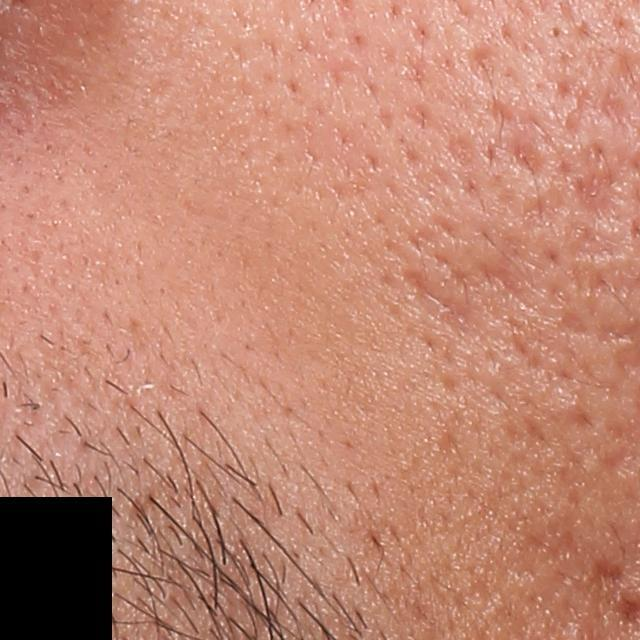atrophic_scar: (430, 252, 590, 336), (393, 260, 493, 334), (571, 142, 615, 214), (518, 184, 569, 232), (506, 137, 544, 177)
